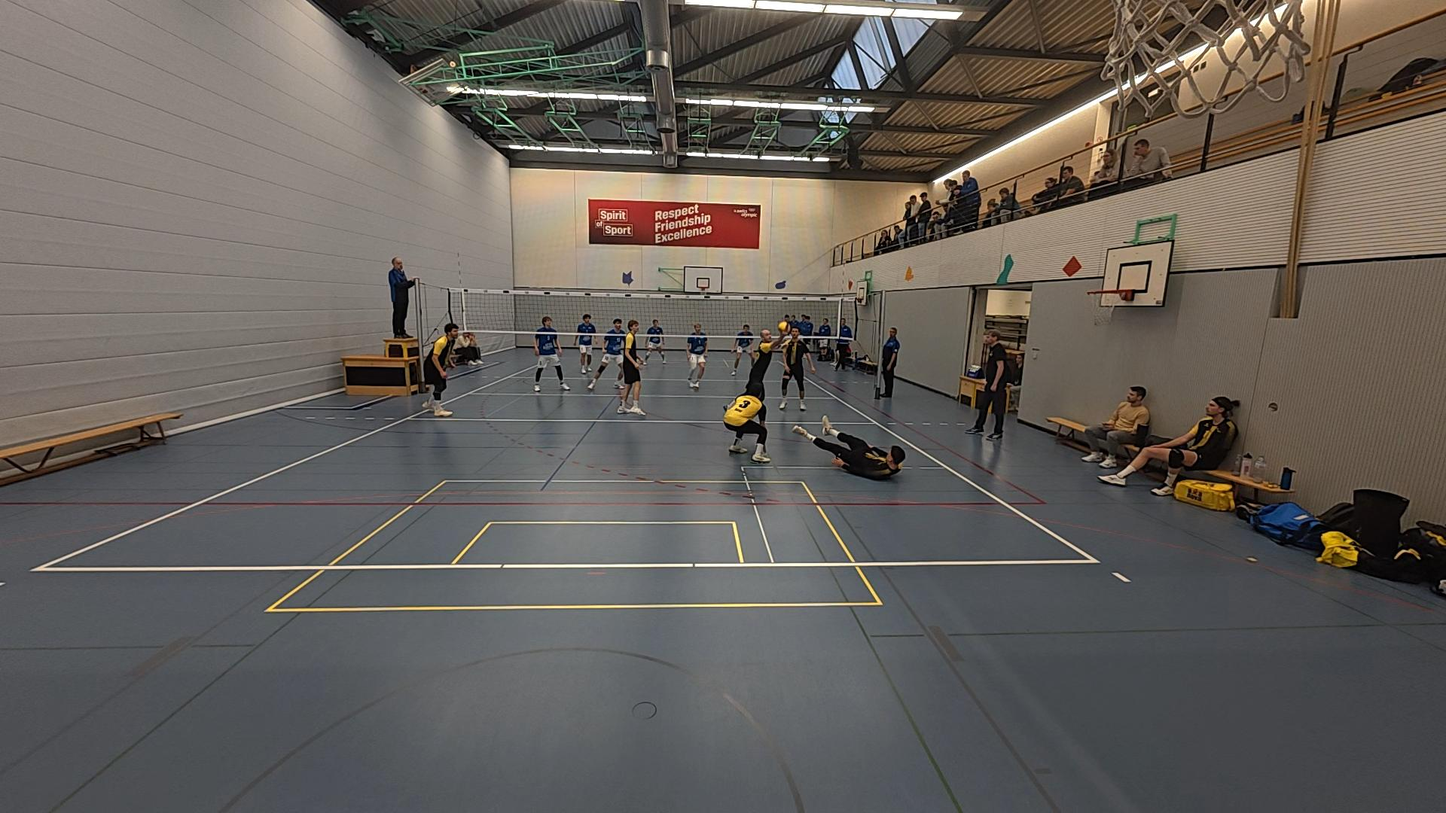Dig: (747, 305, 790, 430)
Player: (802, 413, 909, 480), (720, 379, 778, 463), (424, 324, 458, 417), (774, 326, 807, 413), (616, 321, 645, 416), (532, 315, 566, 393), (590, 318, 619, 390), (685, 322, 709, 388), (574, 312, 597, 378), (729, 321, 755, 376), (643, 315, 666, 366)
ball: (776, 319, 792, 333)
